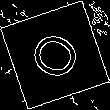O_SE: (22, 24, 88, 86)
